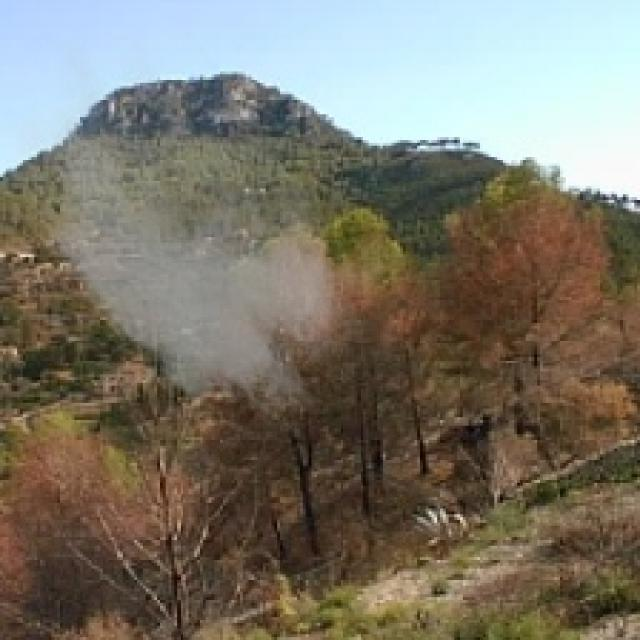Smoke: (6, 37, 374, 429)
